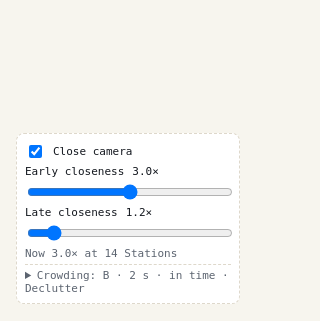
Test: DispatchCameraPanel crowding controls › shows the crowding controls when given settings
The width and height of the screenshot is (320, 321).
Step 1. Click the heading "Crowding: B · 2 s · in time · Declutter" → (128, 282), box [25,269,231,295]
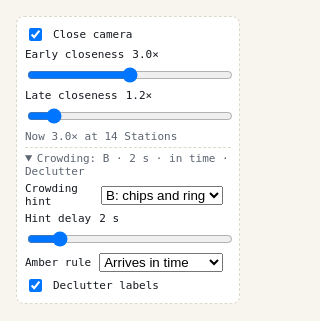
Expected: the dropdown labelled "Crowding hint" shows "B: chips and ring", [101,186,223,204]
Expected: the text "2 s" is shown, [99,212,119,225]
Expected: the checkbox labelled "Declutter labels" is checked, [29,279,42,292]
